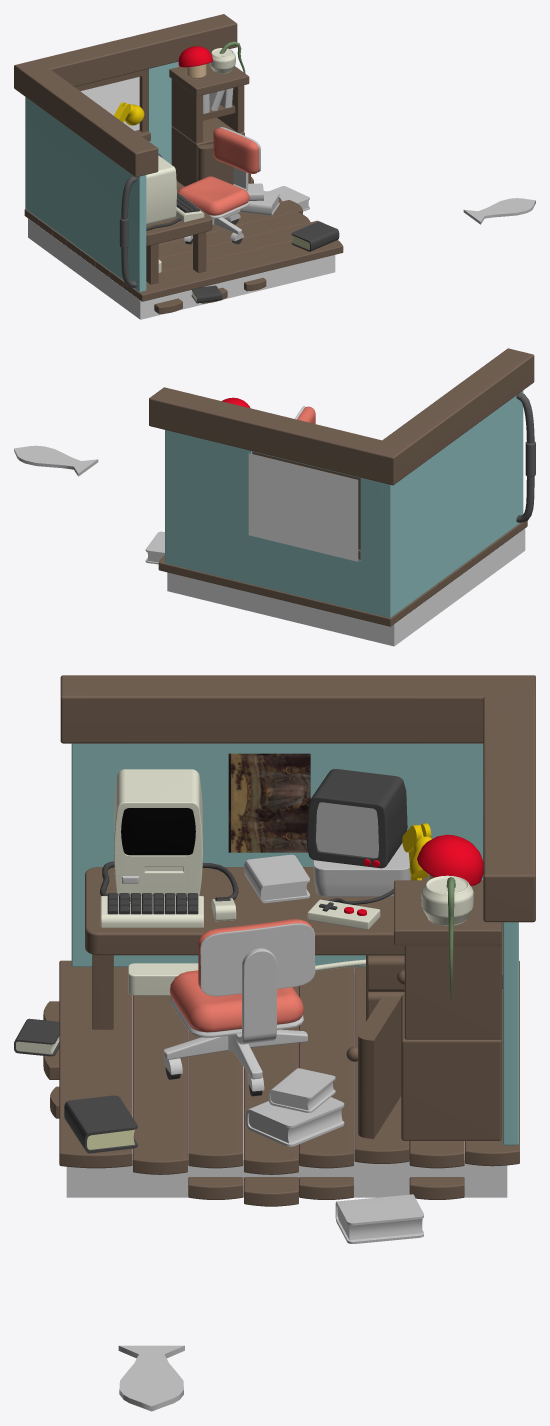
The model's file is FinalProject_Unfinished.fbx.
The picture shows the model from 3 angles, top to bottom: view 1: azimuth 30°, elevation 25°; view 2: azimuth 150°, elevation 25°; view 3: azimuth 270°, elevation 25°; orthographic projection. The views are drawn at different scales.
Parts seen in each view (by area): view 1: Walls, TopOfWalls, FloorBase, WoodBoard01, WoodBoard02, ChairSeatWB, WoodBoard03, ComputerBase, ShelfBase, ChairHeadRestWB, ShelfSupport2, TopOfShelf (+17 smaller); view 2: Walls, TopOfWalls, WindowLight, FloorBase, WoodBoard08, LeafWB, Pipe, Book3, PipeThick; view 3: TopOfWalls, Walls, DeskBase, ShelfBase, WoodBoard01, ShelfSupport1, FloorBase, WoodBoard02, TVWB, Poster, WoodBoard05, ComputerBase (+31 smaller).
Part boxes in pixels (bbox=[...]): Walls: bbox=[25, 61, 179, 292]; TopOfWalls: bbox=[14, 14, 237, 177]; FloorBase: bbox=[28, 218, 335, 319]; WoodBoard01: bbox=[123, 240, 343, 301]; WoodBoard02: bbox=[109, 220, 322, 287]; ChairSeatWB: bbox=[177, 176, 249, 218]; WoodBoard03: bbox=[95, 212, 310, 277]; ComputerBase: bbox=[146, 155, 176, 225]; ShelfBase: bbox=[171, 117, 244, 186]; ChairHeadRestWB: bbox=[213, 127, 260, 174]; ShelfSupport2: bbox=[171, 79, 202, 143]; TopOfShelf: bbox=[169, 63, 249, 96]; Walls: bbox=[165, 390, 523, 618]; TopOfWalls: bbox=[149, 348, 534, 485]; WindowLight: bbox=[248, 453, 358, 561]; FloorBase: bbox=[167, 528, 525, 646]; WoodBoard08: bbox=[158, 555, 406, 626]; LeafWB: bbox=[14, 445, 98, 476]; Pipe: bbox=[516, 392, 534, 522]; Book3: bbox=[145, 531, 164, 564]; PipeThick: bbox=[525, 441, 535, 476]; TopOfWalls: bbox=[60, 675, 535, 922]; Walls: bbox=[71, 743, 518, 1145]; DeskBase: bbox=[85, 867, 427, 955]; ShelfBase: bbox=[401, 994, 501, 1140]; WoodBoard01: bbox=[59, 960, 132, 1168]; ShelfSupport1: bbox=[404, 944, 501, 1039]; FloorBase: bbox=[66, 974, 507, 1197]; WoodBoard02: bbox=[133, 995, 187, 1174]; TVWB: bbox=[306, 769, 407, 868]; Poster: bbox=[228, 753, 310, 852]; WoodBoard05: bbox=[299, 967, 353, 1168]; ComputerBase: bbox=[114, 769, 202, 895].
Size of the model in its own units: 17.71 by 6.66 by 9.48.
